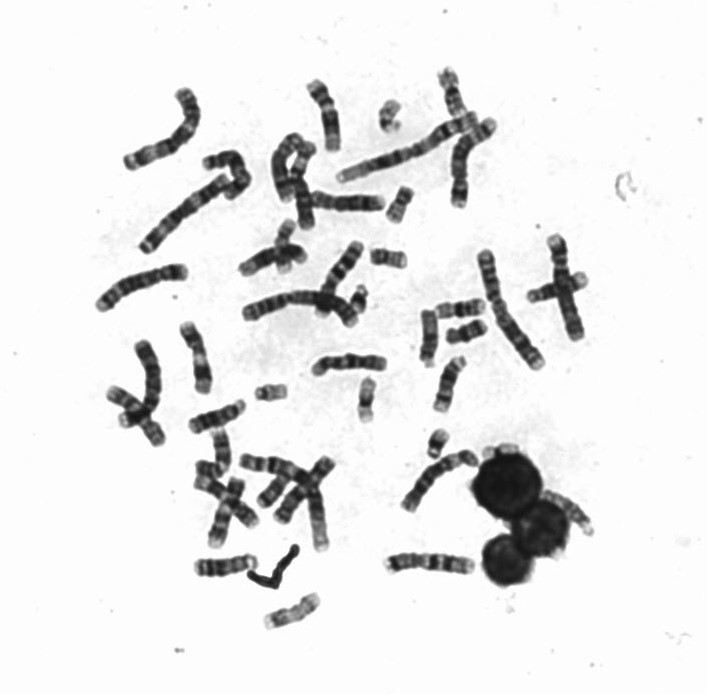chromosomes: (136, 147, 255, 256), (334, 105, 481, 181), (474, 245, 549, 378), (242, 451, 339, 553), (110, 84, 208, 180), (542, 227, 597, 358), (85, 262, 194, 322), (239, 287, 364, 334), (401, 447, 482, 516), (271, 454, 342, 529), (449, 115, 503, 212), (309, 236, 366, 323), (116, 336, 165, 436), (107, 382, 168, 452), (191, 472, 260, 533), (175, 321, 220, 403), (180, 423, 234, 486), (305, 77, 349, 154), (207, 476, 251, 552), (198, 149, 253, 206), (256, 590, 324, 636), (546, 483, 600, 540), (180, 392, 251, 435), (235, 241, 309, 281), (268, 128, 303, 206), (292, 135, 320, 231), (519, 270, 596, 304), (382, 552, 477, 579), (432, 351, 470, 417), (185, 549, 263, 580), (305, 188, 391, 216), (304, 352, 389, 380), (270, 214, 305, 278), (429, 68, 470, 122), (412, 308, 441, 372), (383, 182, 417, 232), (376, 89, 410, 139), (255, 472, 294, 512), (435, 294, 490, 321), (355, 375, 381, 426), (446, 320, 494, 347), (367, 246, 414, 273), (249, 383, 298, 402), (426, 426, 450, 463), (478, 442, 524, 459), (348, 283, 370, 317)
